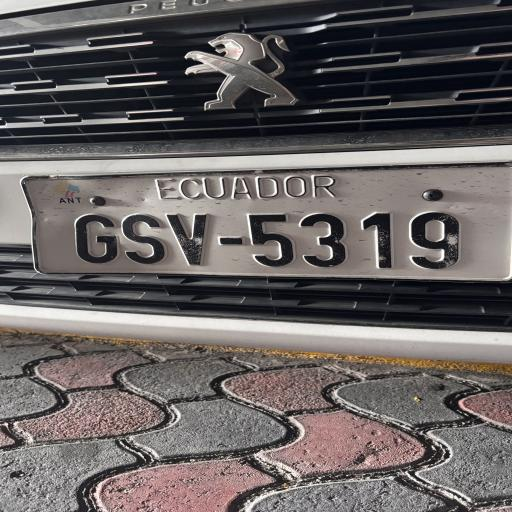license_plate: (23, 167, 511, 280)
